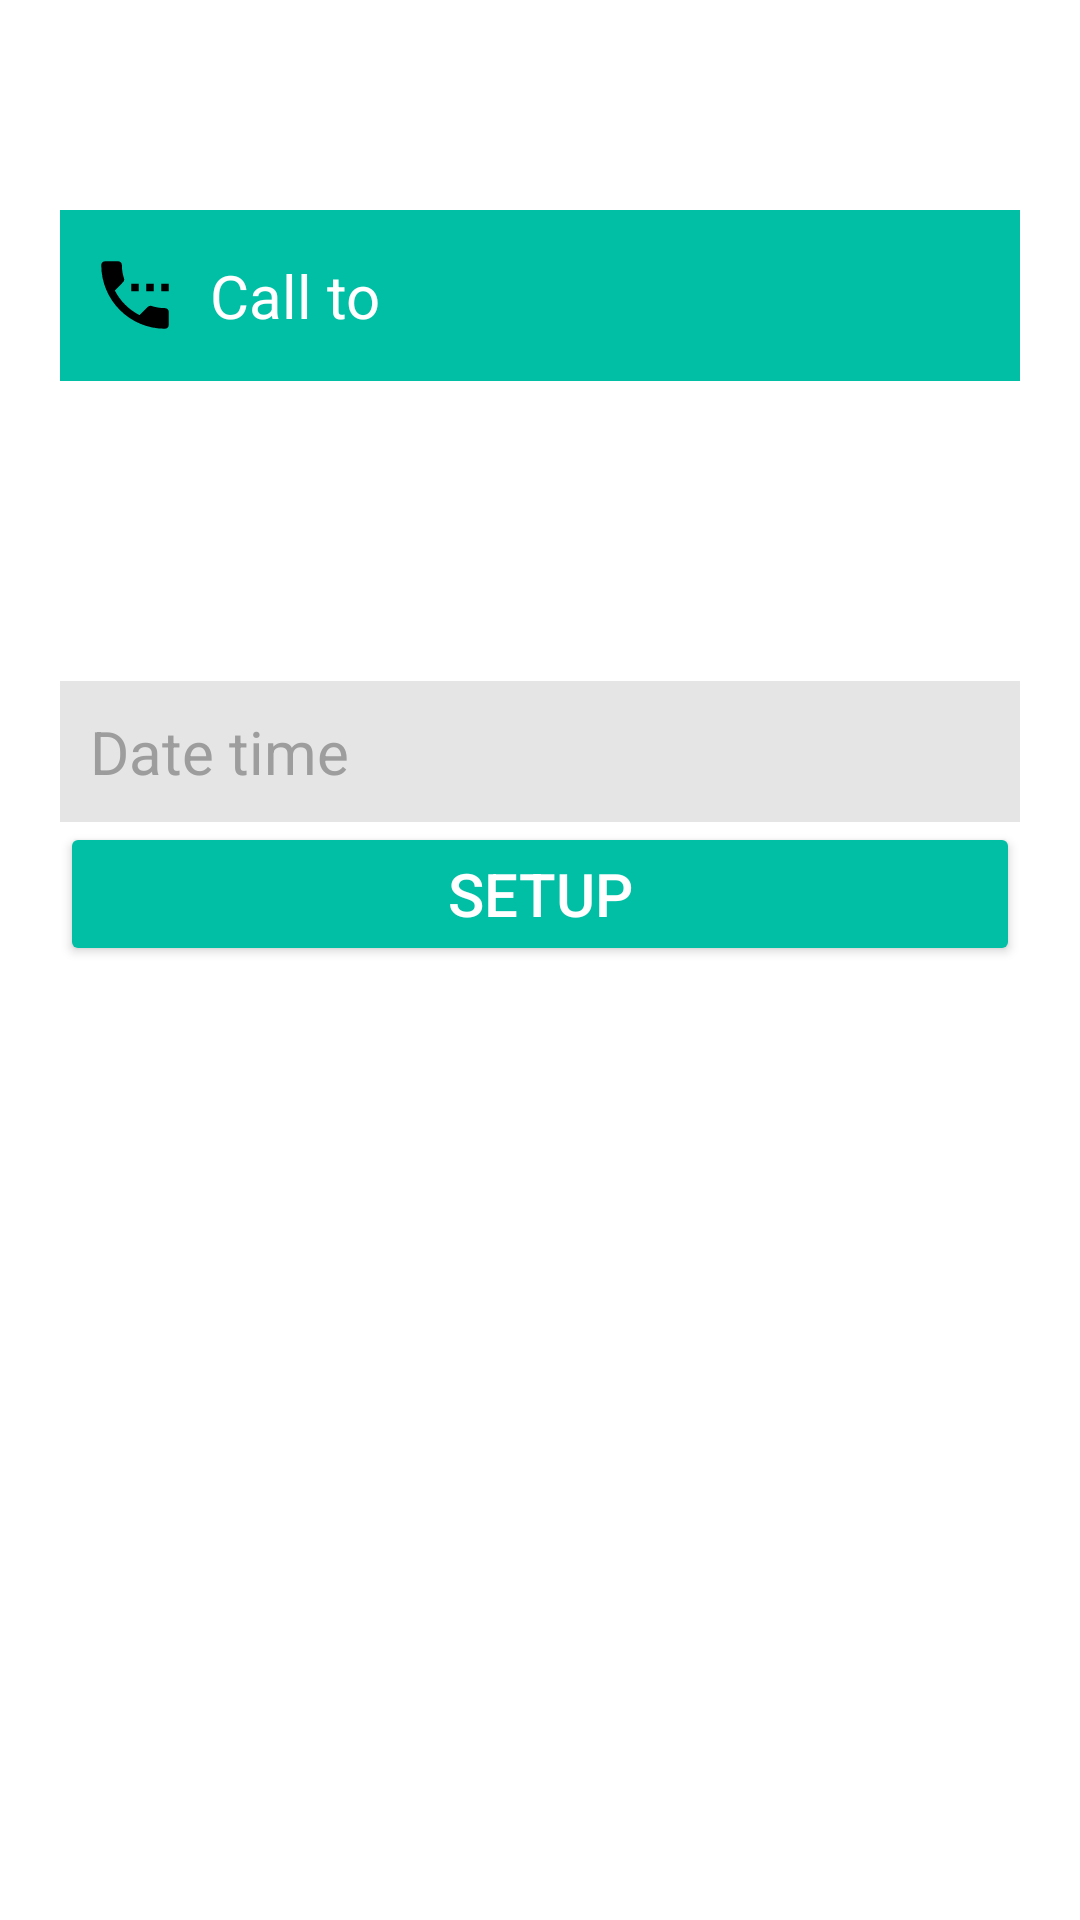

Icons on this 1080 x 1920 Android screen, each with its box as (x1, y1, x2, y2):
settings call: (101, 261, 169, 329)
